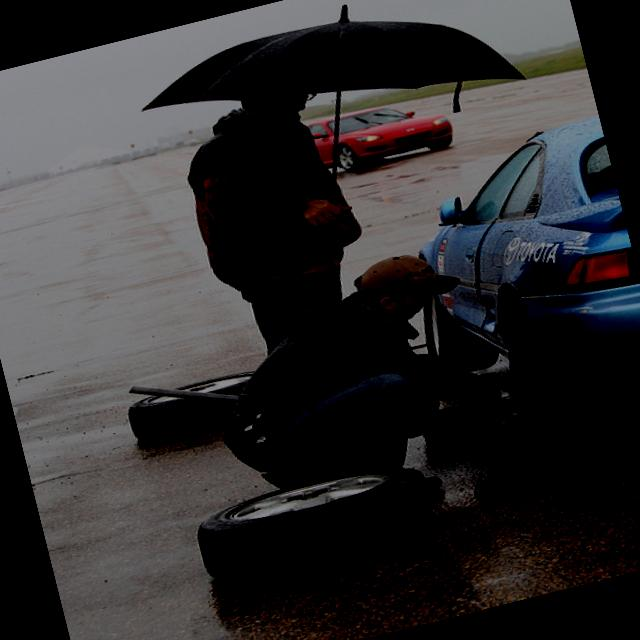Vehicle: (382, 116, 640, 468), (304, 88, 457, 180)
